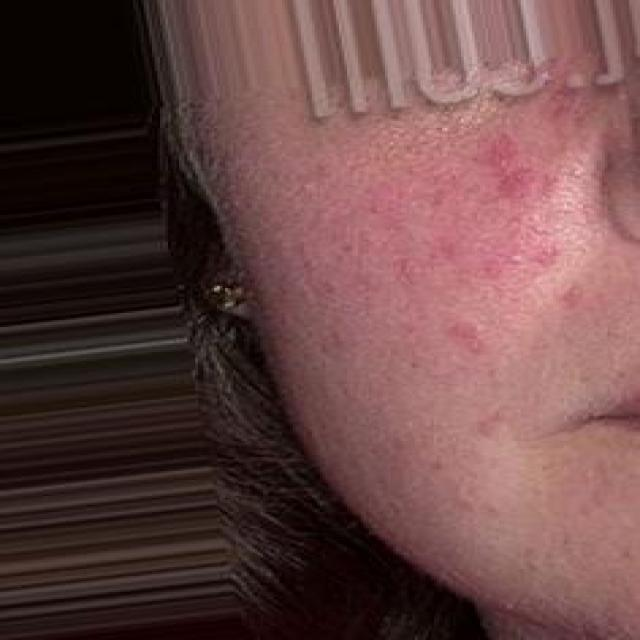Rosacea: (315, 121, 580, 368)
